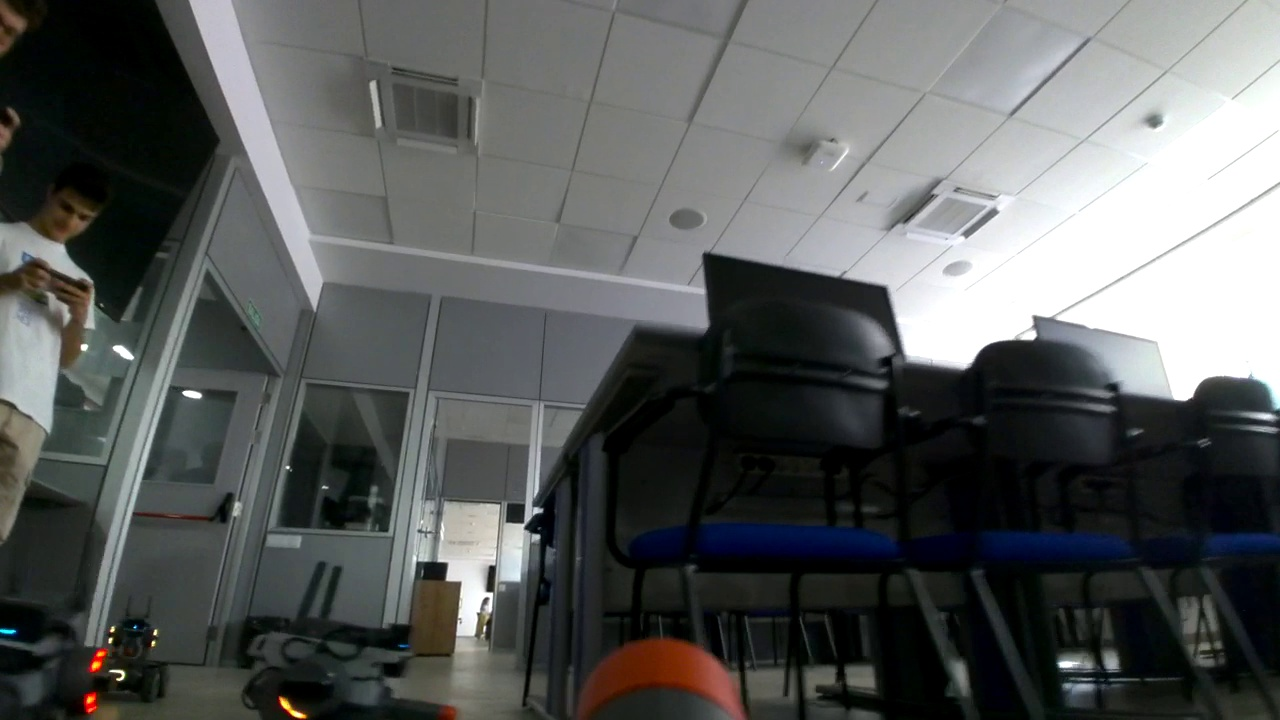robot: (229, 561, 455, 720), (1, 591, 108, 720), (85, 593, 169, 704)
